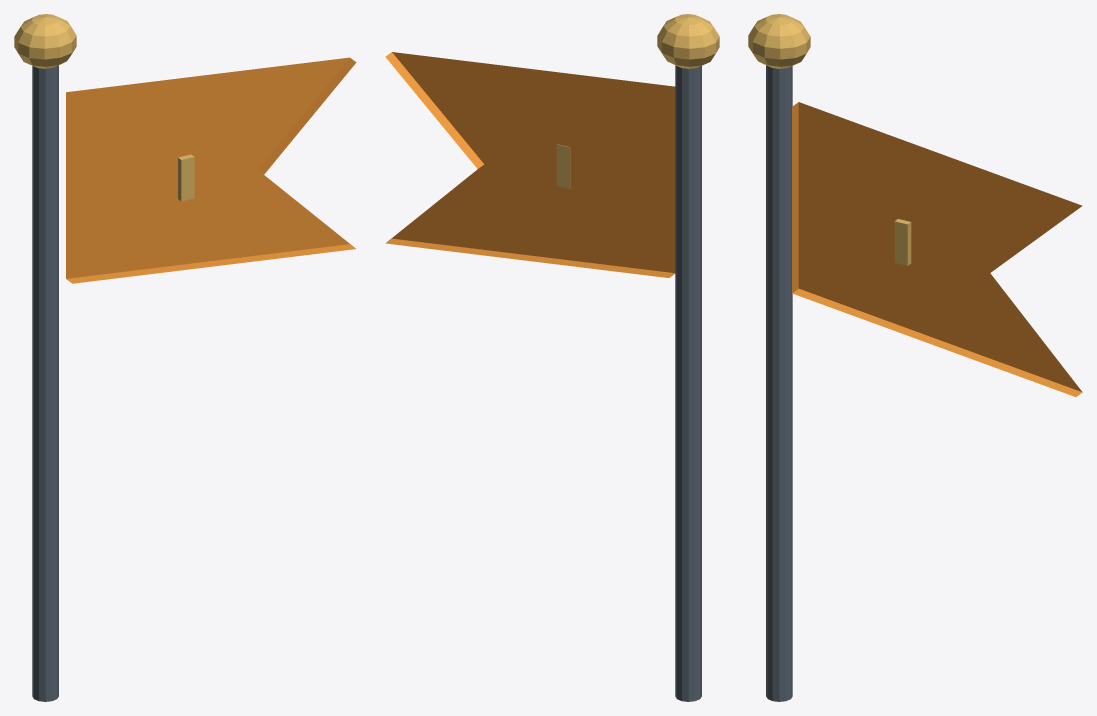
Rendered from bhagwa-dhwaj.glb.
3 views of the same model, side by side, from view 1: azimuth 30°, elevation 25°; view 2: azimuth 150°, elevation 25°; view 3: azimuth 330°, elevation 25° (orthographic).
Visible parts, largest first — view 1: Bhagwa Dhwaj; view 2: Bhagwa Dhwaj; view 3: Bhagwa Dhwaj.
Boxes of the visible parts, left/top/right/bottom form: Bhagwa Dhwaj: left=14, top=14, right=356, bottom=701; Bhagwa Dhwaj: left=385, top=14, right=719, bottom=701; Bhagwa Dhwaj: left=748, top=14, right=1082, bottom=701.
Size of the model in its own units: 1 by 1.97 by 0.156.
